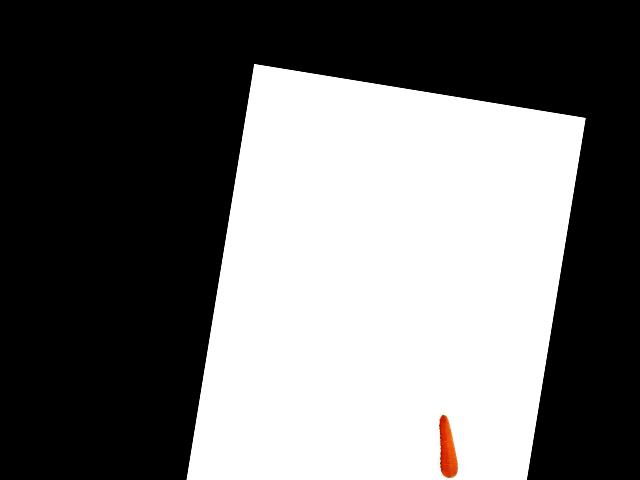carrot: (430, 411, 469, 480)
